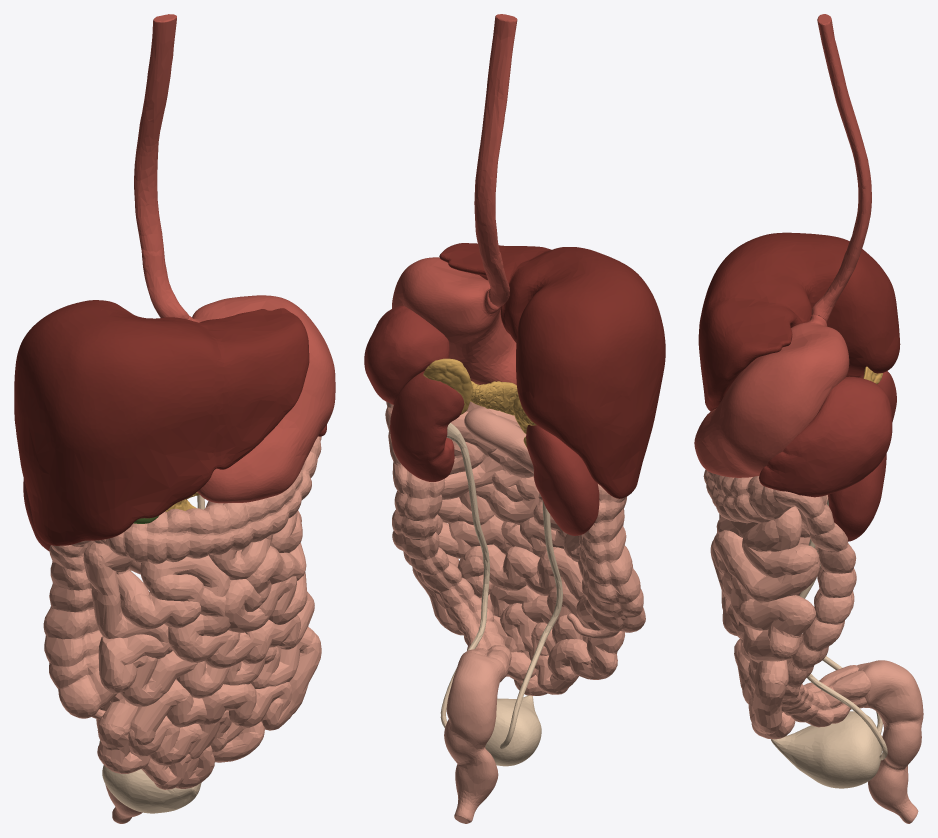
3 views of the same model, side by side, from view 1: azimuth 30°, elevation 25°; view 2: azimuth 150°, elevation 25°; view 3: azimuth 270°, elevation 25° (orthographic). The views are drawn at different scales.
Visible parts, largest first — view 1: liver__liver, small_intestine__ileum, small_intestine__jejunum, large_intestine__colon_nsn, stomach__stomach, esophagus__esophagus, urinary_bladder__urinary_bladder; view 2: liver__liver, large_intestine__colon_nsn, small_intestine__ileum, small_intestine__jejunum, stomach__stomach, large_intestine__rectum, esophagus__esophagus, kidneys__left_kidney, spleen__spleen, kidneys__right_kidney, urinary_bladder__urinary_bladder, duodenum__duodenum (+4 smaller); view 3: liver__liver, stomach__stomach, large_intestine__colon_nsn, small_intestine__jejunum, spleen__spleen, large_intestine__rectum, urinary_bladder__urinary_bladder, esophagus__esophagus, small_intestine__ileum, kidneys__left_kidney, ureters__left_ureter, kidneys__right_kidney.
Boxes of the visible parts, x1,y1,x2,y2 form: liver__liver: (14, 300, 309, 545); small_intestine__ileum: (97, 626, 321, 789); small_intestine__jejunum: (83, 510, 314, 668); large_intestine__colon_nsn: (43, 436, 321, 718); stomach__stomach: (188, 295, 335, 503); esophagus__esophagus: (134, 14, 189, 319); urinary_bladder__urinary_bladder: (102, 765, 201, 813); liver__liver: (439, 243, 665, 498); large_intestine__colon_nsn: (385, 401, 645, 678); small_intestine__ileum: (412, 544, 633, 695); small_intestine__jejunum: (435, 408, 627, 558); stomach__stomach: (392, 257, 516, 384); large_intestine__rectum: (444, 652, 504, 823); esophagus__esophagus: (474, 14, 517, 307); kidneys__left_kidney: (390, 371, 464, 481); spleen__spleen: (364, 305, 449, 404); kidneys__right_kidney: (526, 425, 599, 535); urinary_bladder__urinary_bladder: (485, 695, 541, 766); duodenum__duodenum: (464, 406, 533, 473); liver__liver: (698, 232, 900, 411); stomach__stomach: (694, 315, 849, 477); large_intestine__colon_nsn: (703, 469, 870, 727); small_intestine__jejunum: (710, 506, 819, 662); spleen__spleen: (759, 376, 892, 497); large_intestine__rectum: (857, 660, 923, 823); urinary_bladder__urinary_bladder: (771, 711, 881, 788); esophagus__esophagus: (811, 14, 871, 322); small_intestine__ileum: (734, 636, 795, 739); kidneys__left_kidney: (828, 453, 886, 541); ureters__left_ureter: (799, 498, 887, 760); kidneys__right_kidney: (858, 371, 896, 422).
Size of the model in its own units: 234 by 660 by 171.
